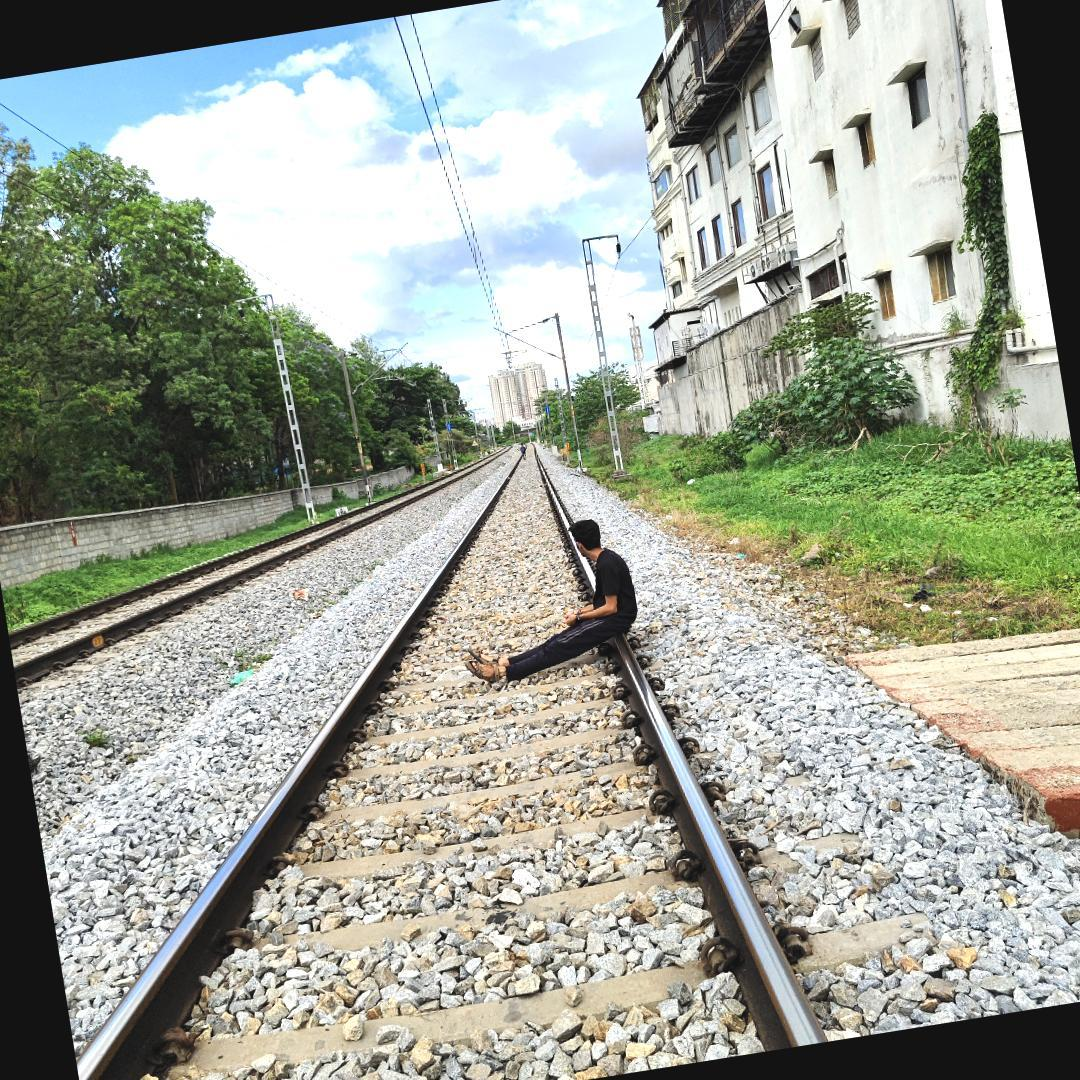sitting: (456, 510, 645, 691)
